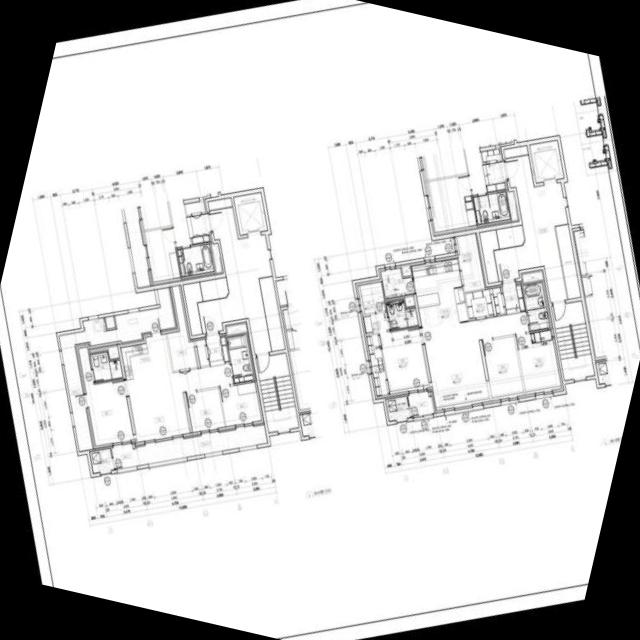background: (0, 0, 640, 640)
space_balconi: (59, 287, 175, 450), (111, 424, 267, 468), (407, 391, 434, 416)
space_bedroom: (78, 346, 133, 445), (379, 326, 429, 393), (515, 326, 561, 393), (481, 333, 524, 399), (219, 381, 261, 426), (186, 387, 224, 431)
space_dressroom: (366, 333, 390, 396), (362, 311, 389, 334)
space_elevator_hall: (197, 192, 272, 353), (493, 139, 567, 302)
space_front: (205, 333, 228, 365), (501, 283, 525, 313)
space_kitchen: (410, 258, 468, 328), (120, 333, 172, 381)
space_living_room: (422, 311, 528, 409), (126, 362, 232, 441)
space_multipurpose_space: (380, 267, 414, 298)
space_other: (166, 284, 197, 371), (555, 223, 580, 298), (259, 276, 284, 350), (454, 232, 484, 291), (183, 281, 202, 335), (479, 229, 498, 282), (357, 281, 385, 314), (464, 288, 493, 318), (199, 276, 228, 300), (496, 224, 524, 248), (491, 286, 506, 313), (89, 345, 118, 358), (195, 338, 208, 365), (503, 145, 528, 157), (207, 197, 232, 209), (522, 271, 542, 282), (226, 323, 246, 334), (105, 315, 115, 328), (404, 295, 414, 307), (401, 265, 411, 276)
space_outdoor_room: (89, 447, 113, 473), (385, 395, 409, 420)
space_staircase: (551, 300, 595, 380), (255, 352, 298, 432)
space_toilet: (522, 281, 550, 331), (226, 333, 254, 383), (89, 350, 122, 382), (385, 298, 418, 330)
